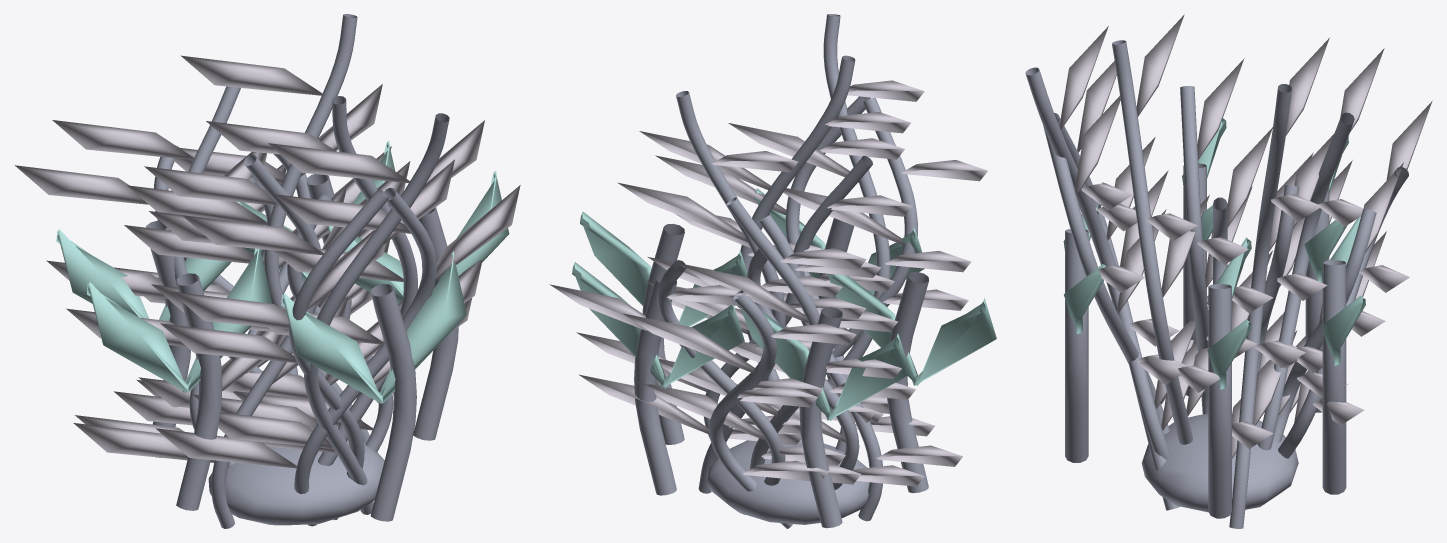
Rendered from bio_aquatic_frond_22_far.glb.
3 renders of one model, left to right at view 1: azimuth 30°, elevation 25°; view 2: azimuth 150°, elevation 25°; view 3: azimuth 270°, elevation 25°, orthographic. The views are drawn at different scales.
Visible parts, largest first — view 1: Ruffled aquatic blade.010, Holdfast, Ruffled aquatic blade.050, Ruffled aquatic blade.040, Secondary fan lobe.004, Ruffled aquatic blade.035, Ruffled aquatic blade.020, Ruffled aquatic blade.025, Secondary fan lobe.008, Branching support.002, Flexible stipe.002, Ruffled aquatic blade.045 (+19 smaller); view 2: Ruffled aquatic blade.030, Holdfast, Ruffled aquatic blade.005, Ruffled aquatic blade.015, Secondary fan lobe.008, Ruffled aquatic blade.010, Ruffled aquatic blade.040, Ruffled aquatic blade.020, Secondary fan lobe.002, Branching support.001, Branching support.003, Secondary fan lobe.006 (+21 smaller); view 3: Holdfast, Flexible stipe.005, Flexible stipe.008, Branching support, Ruffled aquatic blade.025, Branching support.003, Ruffled aquatic blade.040, Ruffled aquatic blade.010, Branching support.002, Flexible stipe.004, Ruffled aquatic blade.035, Flexible stipe.001 (+21 smaller).
Boxes of the visible parts, <box> form: Ruffled aquatic blade.010: <box>170,143,454,448</box>; Holdfast: <box>208,440,384,525</box>; Ruffled aquatic blade.050: <box>155,185,520,468</box>; Ruffled aquatic blade.040: <box>124,55,389,401</box>; Secondary fan lobe.004: <box>281,251,466,403</box>; Ruffled aquatic blade.035: <box>160,215,390,452</box>; Ruffled aquatic blade.020: <box>73,161,410,462</box>; Ruffled aquatic blade.025: <box>192,120,484,427</box>; Secondary fan lobe.008: <box>87,248,272,392</box>; Branching support.002: <box>370,284,416,521</box>; Flexible stipe.002: <box>304,113,449,514</box>; Ruffled aquatic blade.045: <box>66,185,347,433</box>; Ruffled aquatic blade.030: <box>579,313,856,481</box>; Holdfast: <box>706,440,869,524</box>; Ruffled aquatic blade.005: <box>659,248,901,465</box>; Ruffled aquatic blade.015: <box>549,284,861,484</box>; Secondary fan lobe.008: <box>827,273,996,385</box>; Ruffled aquatic blade.010: <box>728,80,971,413</box>; Ruffled aquatic blade.040: <box>617,151,866,435</box>; Ruffled aquatic blade.020: <box>675,195,962,466</box>; Secondary fan lobe.002: <box>737,306,910,421</box>; Branching support.001: <box>799,307,842,528</box>; Branching support.003: <box>634,274,676,495</box>; Secondary fan lobe.006: <box>572,262,744,388</box>; Holdfast: <box>1141,413,1298,512</box>; Flexible stipe.005: <box>1112,40,1192,444</box>; Flexible stipe.008: <box>1229,84,1291,528</box>; Branching support: <box>1208,284,1231,518</box>; Ruffled aquatic blade.025: <box>1136,14,1219,415</box>; Branching support.003: <box>1322,260,1346,494</box>; Ruffled aquatic blade.040: <box>1253,37,1329,425</box>; Ruffled aquatic blade.010: <box>1059,26,1195,408</box>; Branching support.002: <box>1065,229,1088,462</box>; Flexible stipe.004: <box>1180,86,1208,414</box>; Ruffled aquatic blade.035: <box>1077,61,1198,430</box>; Flexible stipe.001: <box>1257,112,1354,450</box>.
Bounding box in the file's own units: 1.85 × 1.89 × 1.56.
